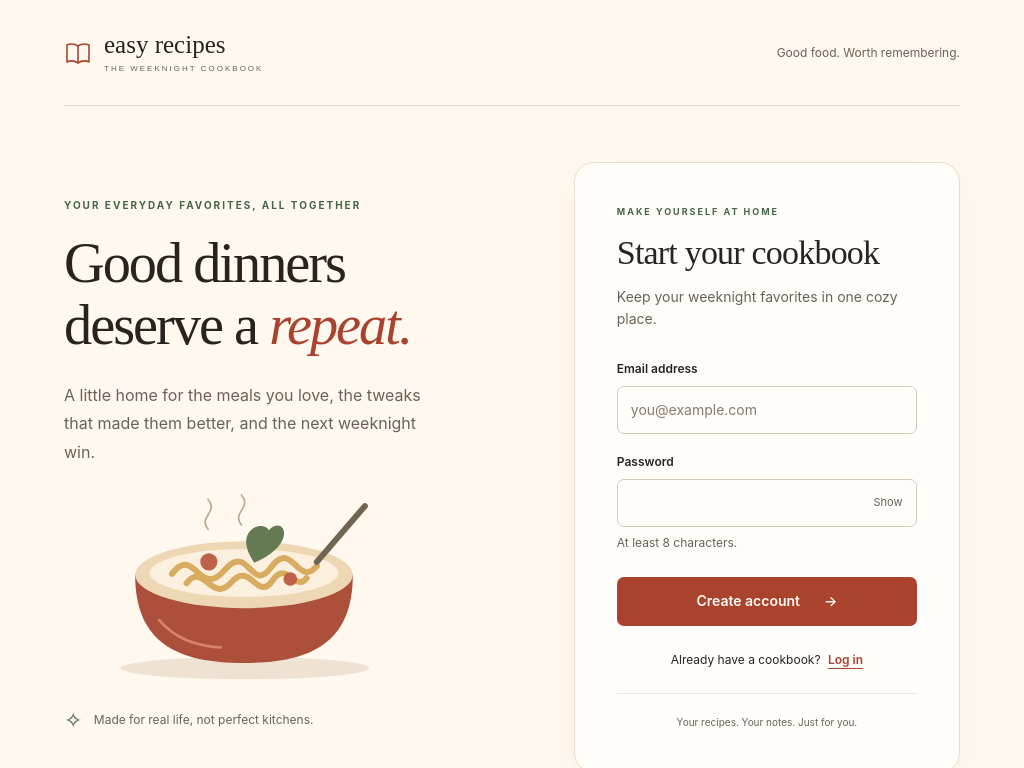
it: account flows › opens the cookbook when signup immediately returns a session
The width and height of the screenshot is (1024, 768).
Type "a@example.com" into the field labelled "Email address". click: (767, 410)
box: [617,386,917,434]
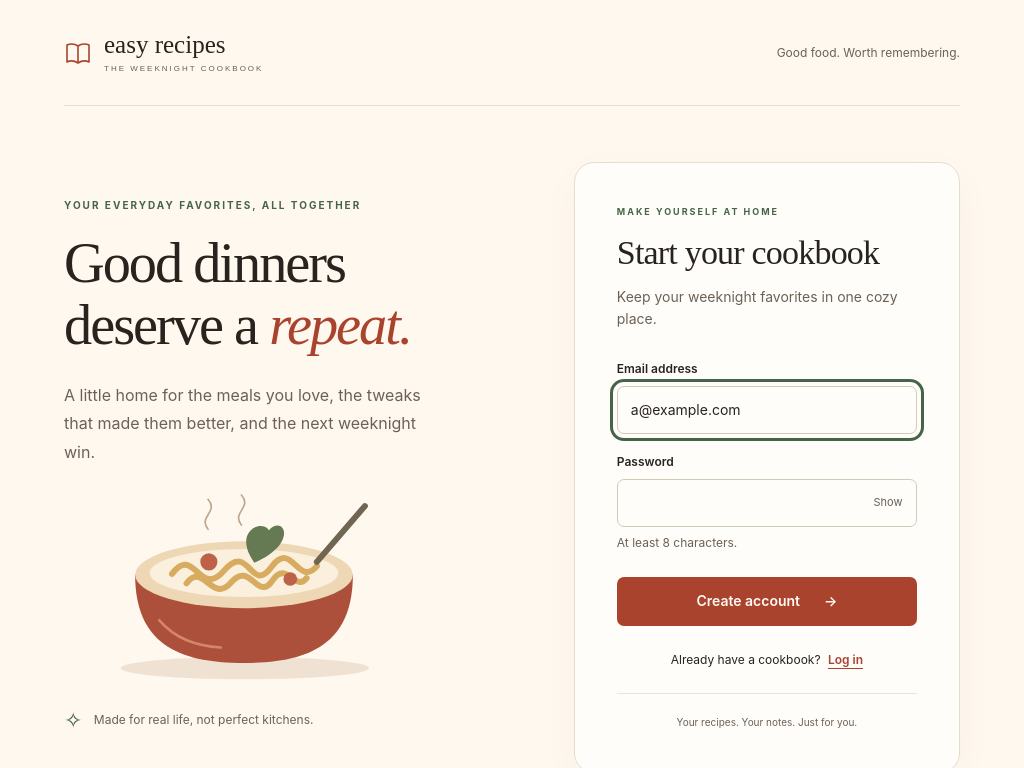
Type "password123" into the password field labelled "Password". click: (767, 503)
box: [617,479,917,527]
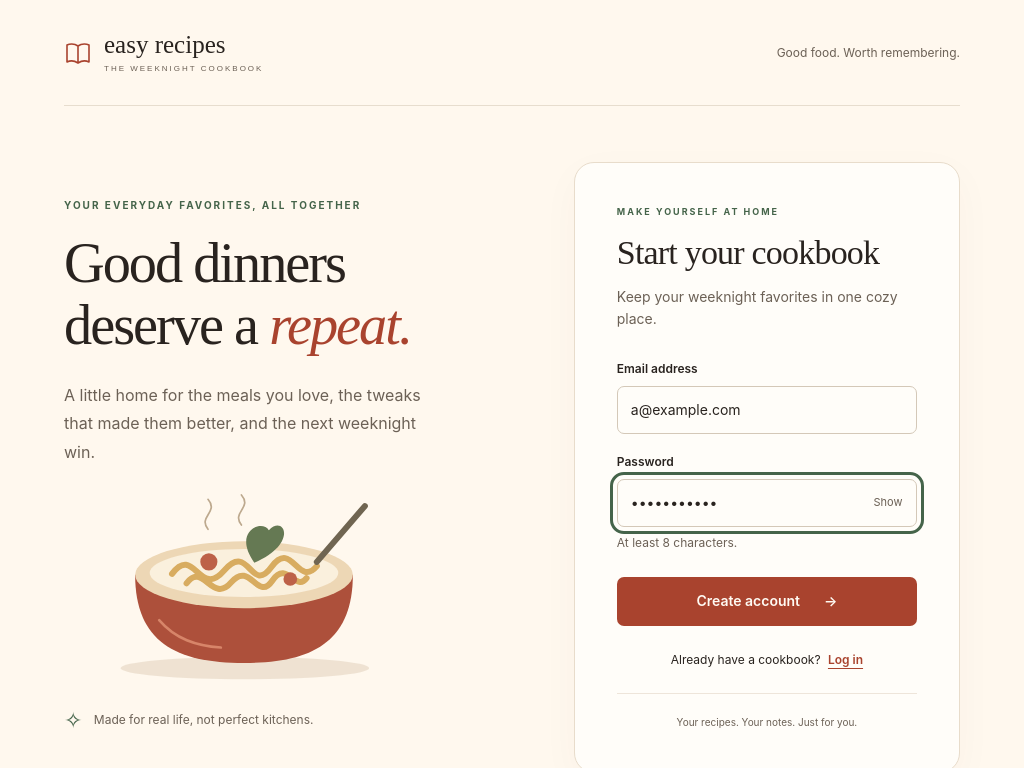
Click the button "Create account →". click: (767, 601)
box: [617,577,917,626]
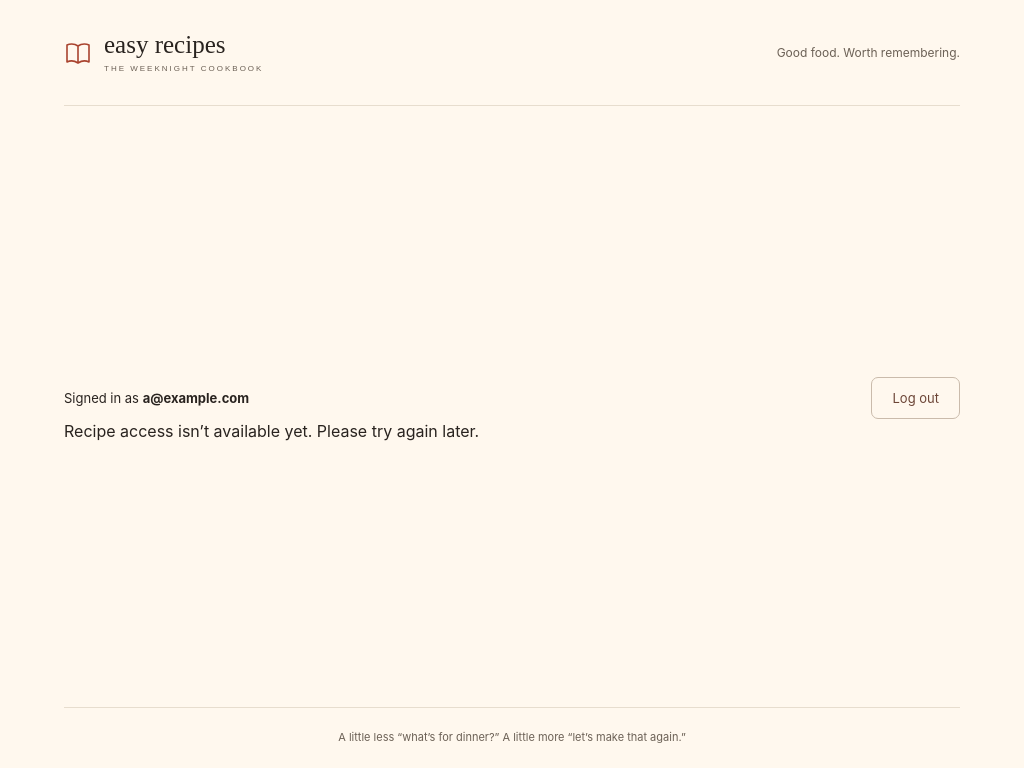
Check: the text "a@example.com" is shown, box [143,390,249,406]
